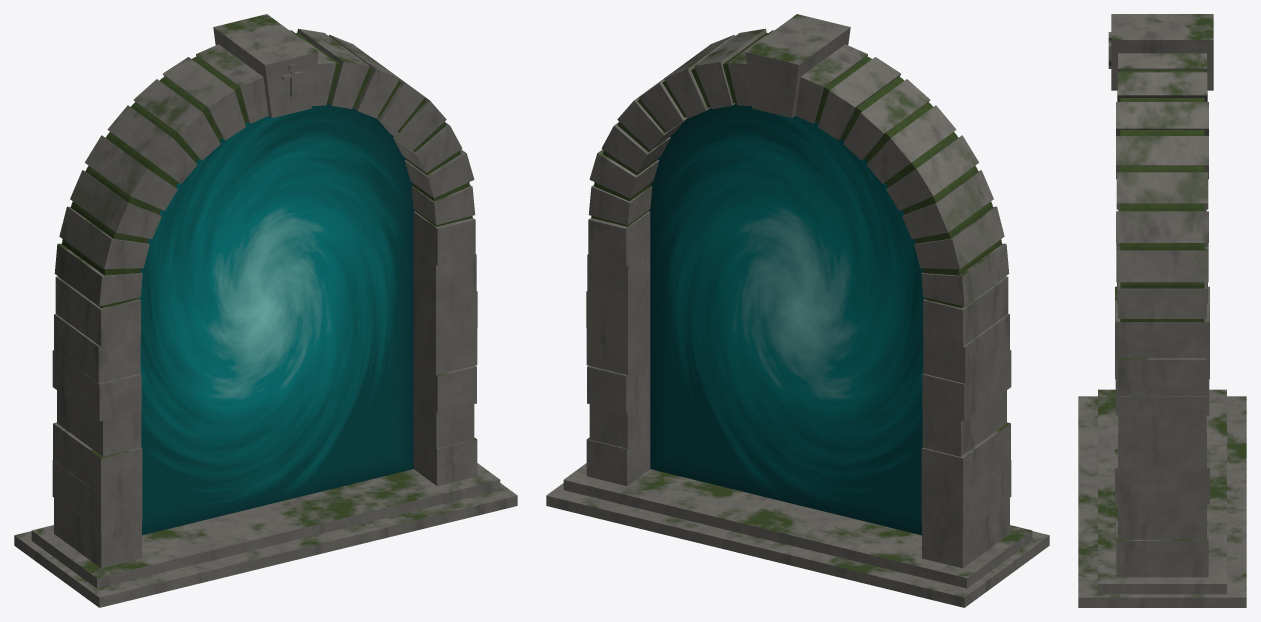
3 views of the same model, side by side, from view 1: azimuth 30°, elevation 25°; view 2: azimuth 150°, elevation 25°; view 3: azimuth 270°, elevation 25° (orthographic).
Parts seen in each view (by area): view 1: 포탈_큰_복귀; view 2: 포탈_큰_복귀; view 3: 포탈_큰_복귀.
Boxes of the visible parts, bbox=[...] form: 포탈_큰_복귀: bbox=[14, 14, 517, 607]; 포탈_큰_복귀: bbox=[546, 14, 1049, 607]; 포탈_큰_복귀: bbox=[1078, 14, 1246, 607].
Bounding box in the file's own units: 1700 × 1888 × 600.
Materials: 3 (3 with a texture image).
